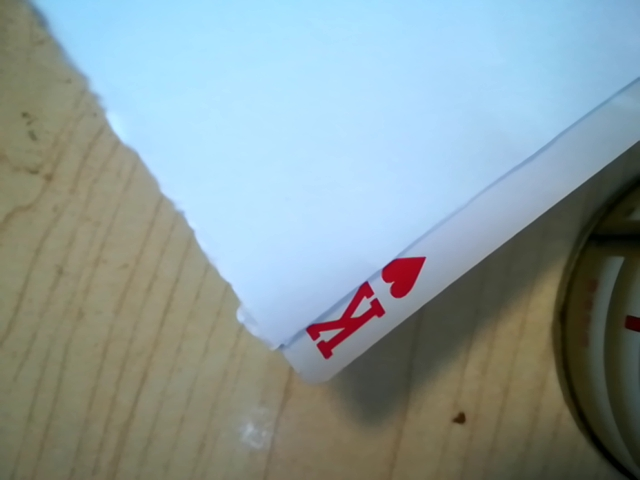hx k: (292, 250, 430, 376)
